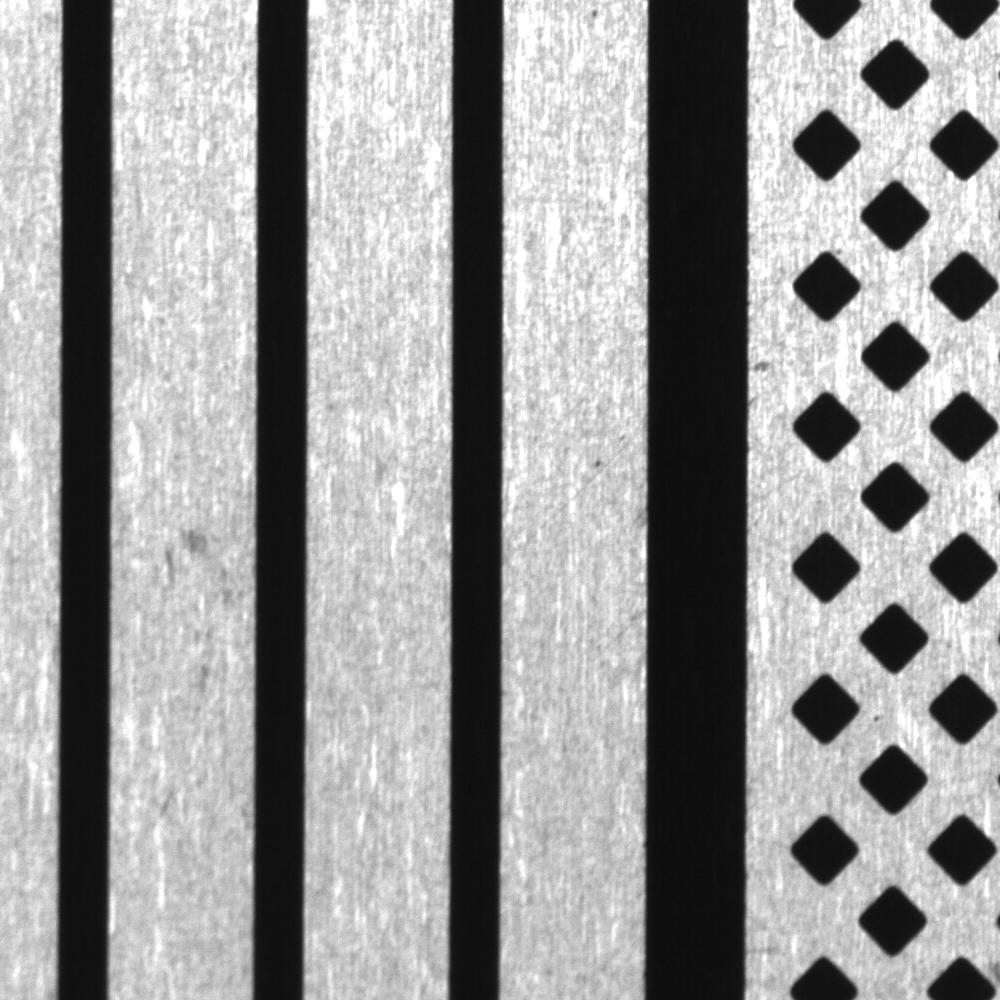Scar: (504, 425, 646, 549)
